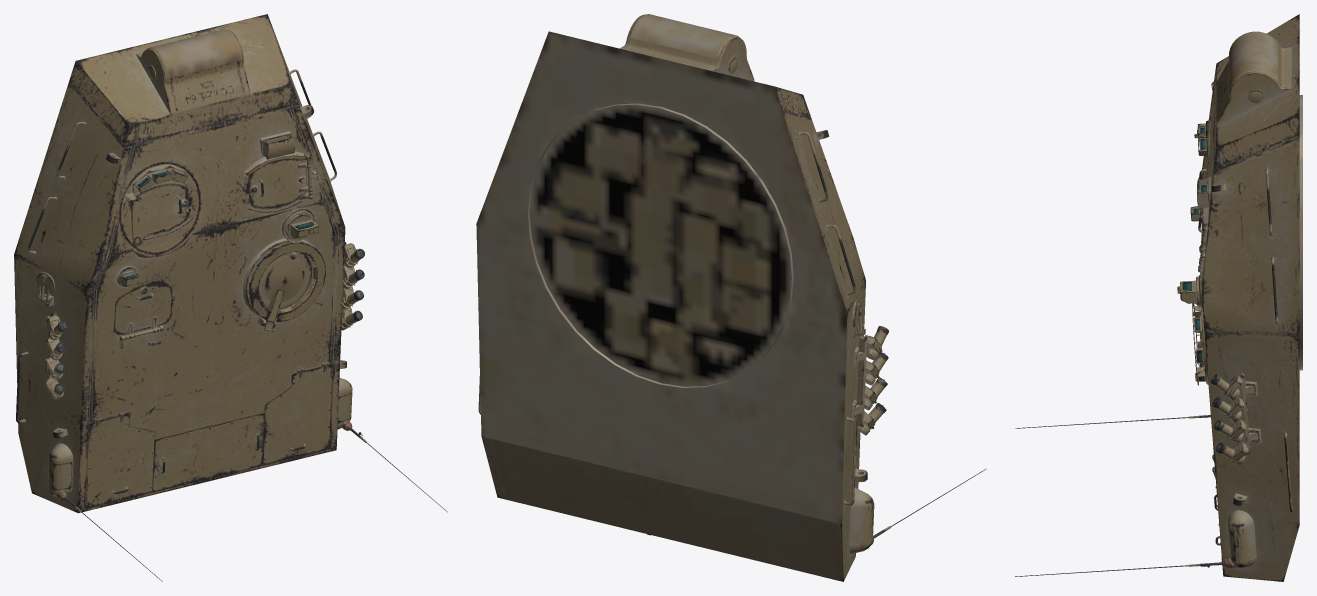
The model's file is Turret_01.glb.
3 views of the same model, side by side, from view 1: azimuth 30°, elevation 25°; view 2: azimuth 150°, elevation 25°; view 3: azimuth 270°, elevation 25° (orthographic). The views are drawn at different scales.
Visible parts, largest first — view 1: set_0_group_0; view 2: set_0_group_0; view 3: set_0_group_0.
Part boxes in pixels (x1,y1,x2,y2): set_0_group_0: [14, 14, 447, 581]; set_0_group_0: [476, 14, 986, 581]; set_0_group_0: [1015, 14, 1302, 581].
Size of the model in its own units: 3.34 by 4.33 by 2.45.
Materials: 1 (1 with a texture image).
